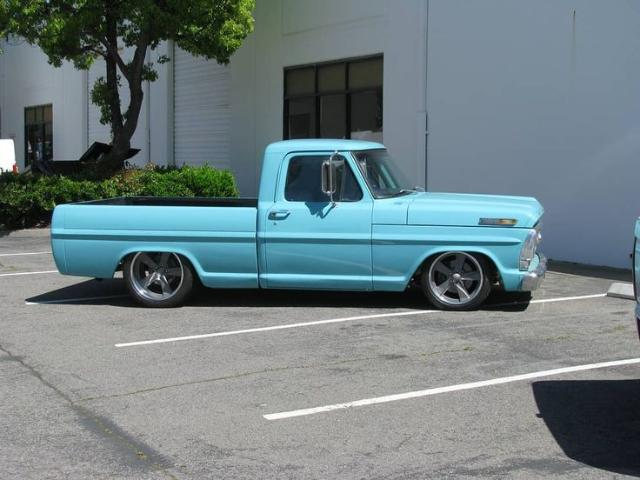pickup-truck: (49, 138, 549, 312)
